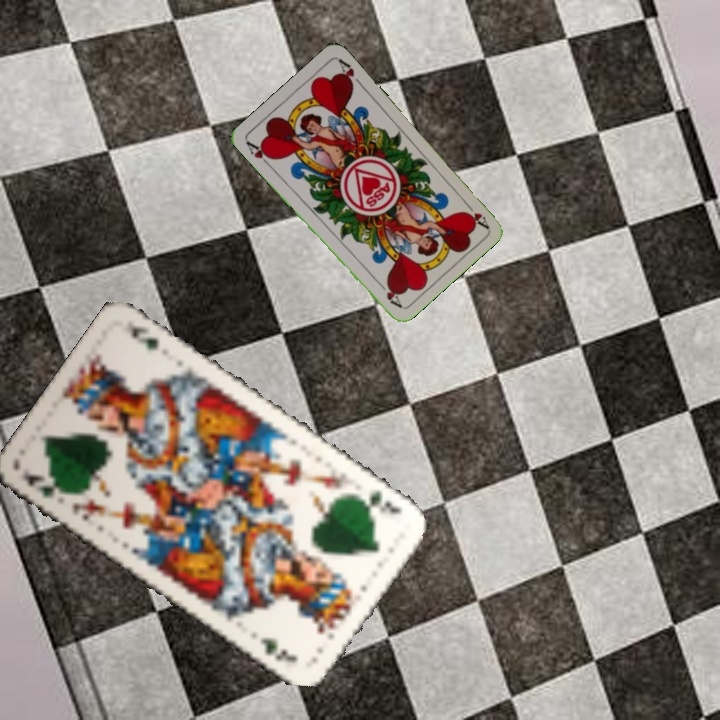GK: (19, 469, 72, 501), (354, 485, 406, 517)
HA: (242, 137, 276, 170), (459, 196, 491, 231)
